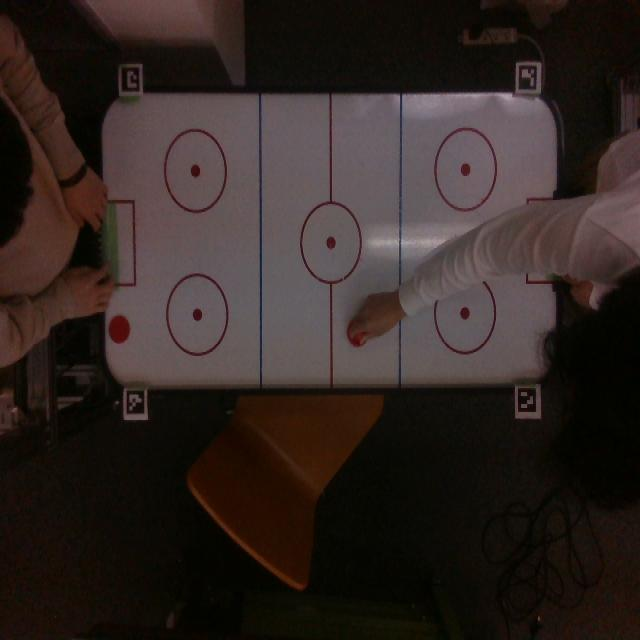puck: (106, 309, 132, 345)
